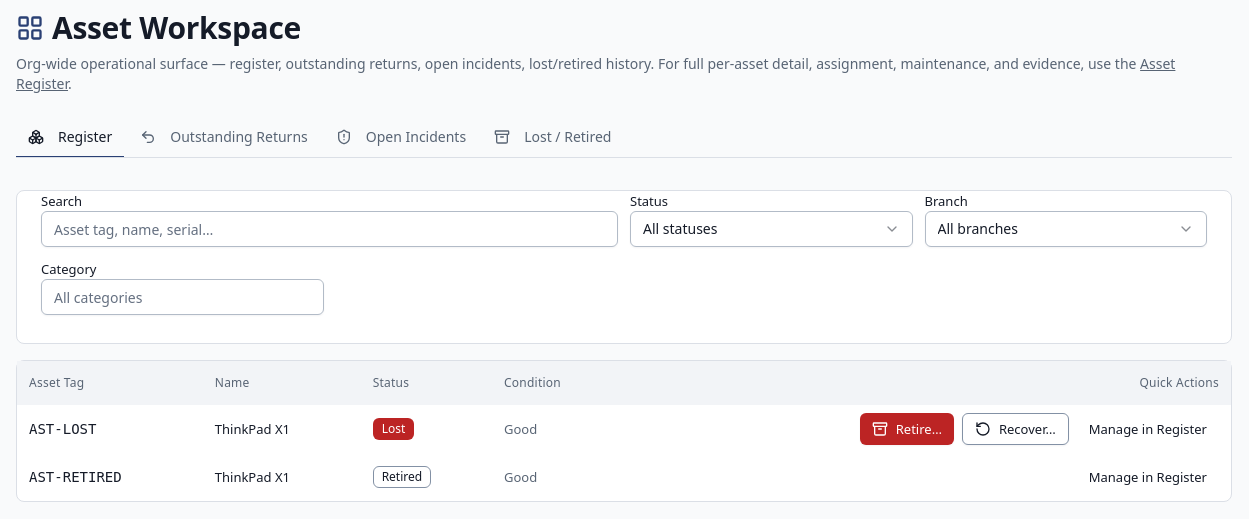
Test case: Asset Workspace page › Lost / Retired History tab › separates lost and retired into two distinct sections
Click the tab with test id "tab-workspace-history": point(553, 138) [482,118,623,158]
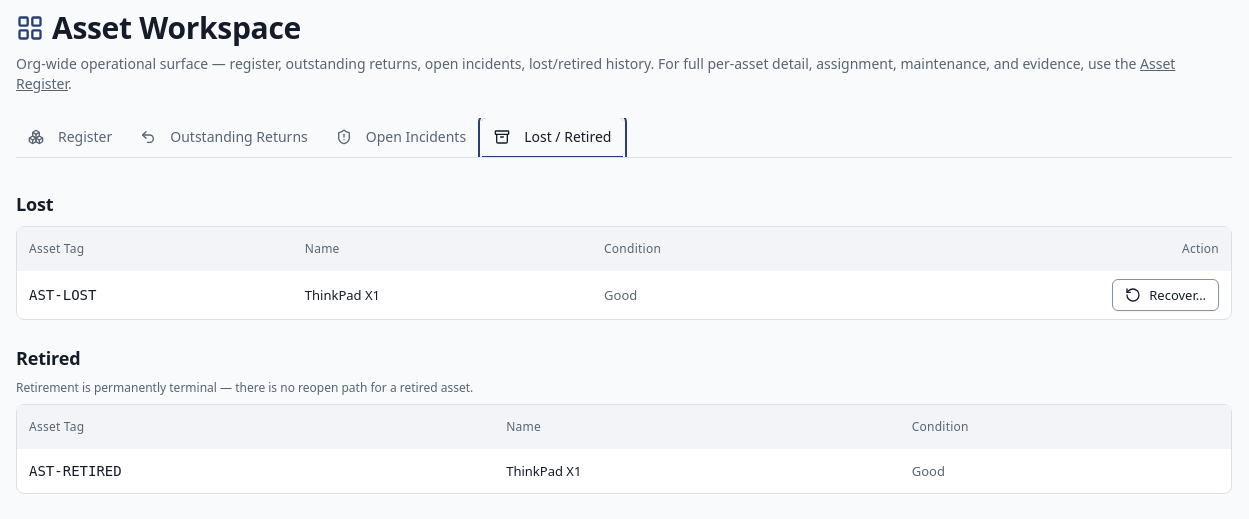
Result: the heading "Retired" is shown at [16,346,80,370]
Result: the row with test id "row-workspace-history-1" shows "AST-LOST" at [29,287,96,303]
Result: the row with test id "row-workspace-history-2" shows "AST-RETIRED" at [29,463,122,479]
